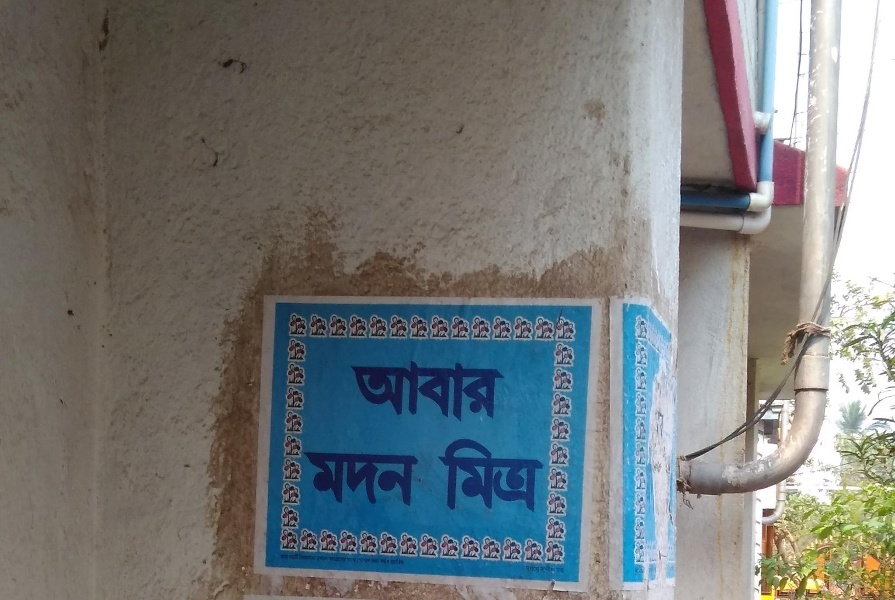text: (449, 434, 464, 516), (465, 434, 480, 516), (481, 434, 496, 516), (497, 434, 512, 516), (513, 434, 528, 516), (529, 434, 544, 516), (353, 354, 368, 426), (369, 354, 384, 426), (385, 354, 400, 426), (401, 354, 416, 426), (417, 354, 432, 426), (433, 354, 448, 426), (449, 354, 464, 426), (465, 354, 480, 426), (481, 354, 496, 426), (497, 354, 511, 426), (305, 443, 320, 508), (321, 443, 336, 508), (337, 443, 352, 508), (353, 443, 368, 508), (369, 443, 384, 508), (385, 443, 400, 508), (401, 443, 416, 508), (437, 434, 448, 516), (347, 354, 352, 426), (545, 434, 549, 516), (417, 443, 420, 508), (302, 443, 304, 508)
